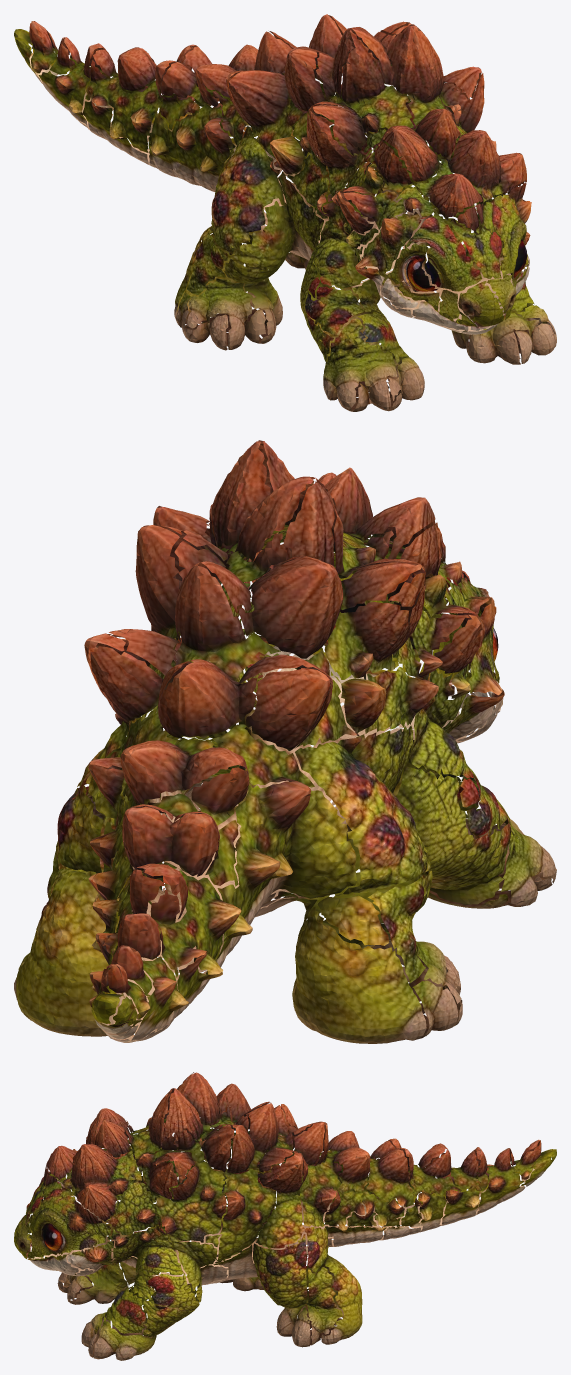
Rendered from terranox.glb.
3 renders of one model, top to bottom at view 1: azimuth 30°, elevation 25°; view 2: azimuth 150°, elevation 25°; view 3: azimuth 270°, elevation 25°, orthographic. The views are drawn at different scales.
Parts seen in each view (by area): view 1: world; view 2: world; view 3: world.
Boxes of the visible parts, x1,y1,x2,y2 form: world: [14, 14, 556, 411]; world: [14, 440, 556, 1043]; world: [14, 1072, 556, 1360].
Size of the model in its own units: 0.4418 by 0.4734 by 0.9769.
Materials: 1 (1 with a texture image).
